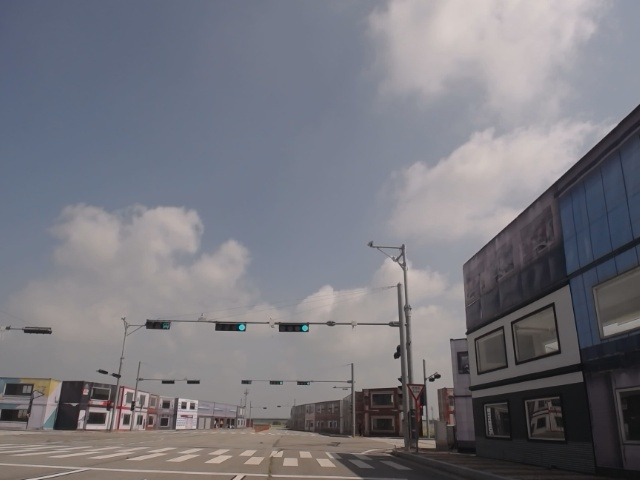straight_green_4: (277, 324, 309, 333), (215, 322, 245, 331)
